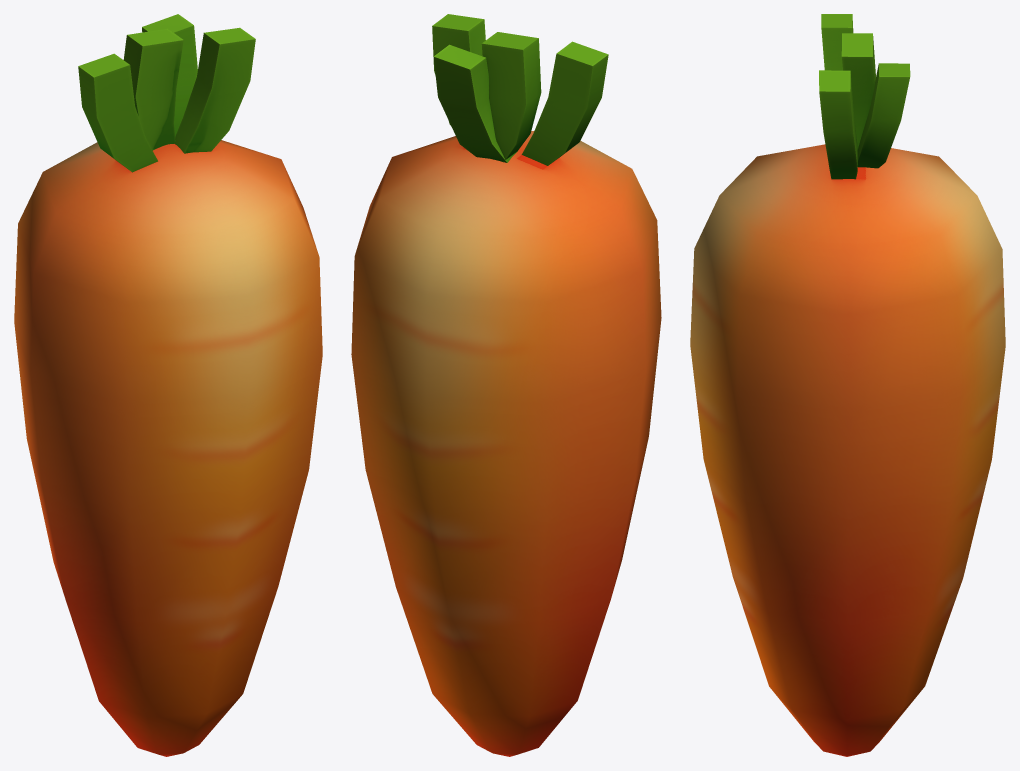
The model's file is ca rot nhoi bong.fbx.
3 views of the same model, side by side, from view 1: azimuth 30°, elevation 25°; view 2: azimuth 150°, elevation 25°; view 3: azimuth 270°, elevation 25° (orthographic).
Parts seen in each view (by area): view 1: ca_rot_nhoi_bong1; view 2: ca_rot_nhoi_bong1; view 3: ca_rot_nhoi_bong1.
Boxes of the visible parts, <box> form: ca_rot_nhoi_bong1: <box>14,14,322,756</box>; ca_rot_nhoi_bong1: <box>351,14,661,756</box>; ca_rot_nhoi_bong1: <box>690,14,1005,756</box>.
Bounding box in the file's own units: 58.91 × 146 × 58.91.
Materials: 1 (1 with a texture image).
